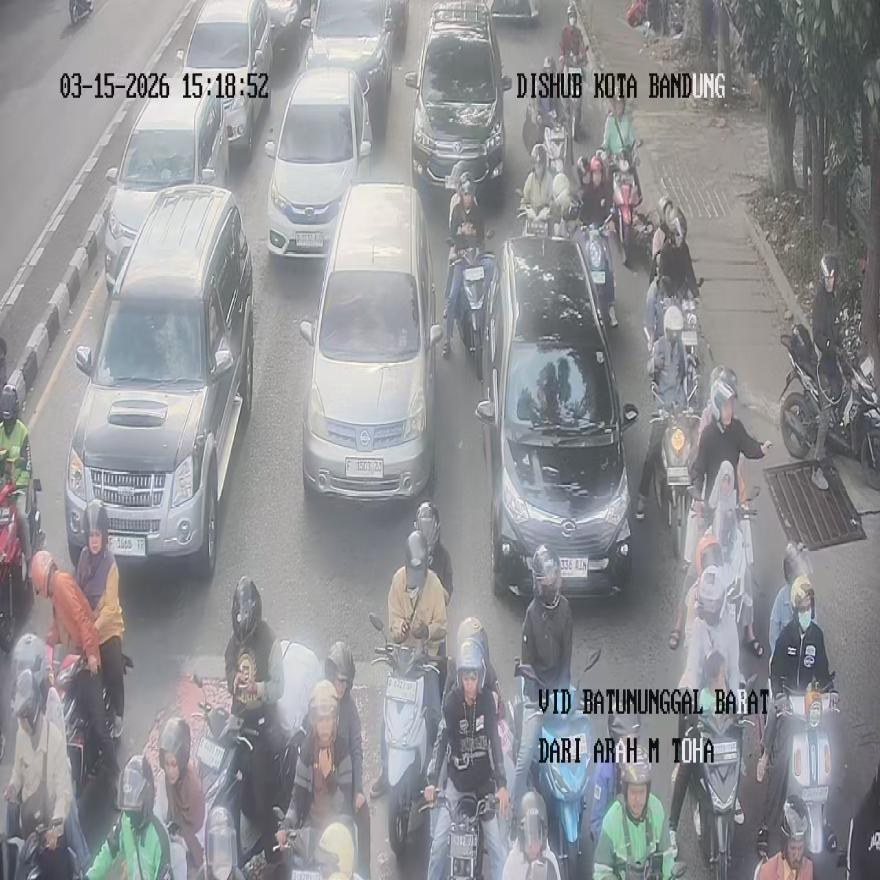Motor: (66, 183, 253, 574), (475, 237, 638, 595), (299, 183, 440, 501), (104, 72, 227, 290), (405, 0, 512, 192), (264, 65, 372, 255), (178, 0, 272, 161), (301, 0, 398, 139)
Truk: (193, 639, 321, 880), (510, 649, 602, 879), (370, 616, 446, 854), (779, 324, 880, 489), (589, 711, 677, 880), (768, 674, 839, 854), (54, 649, 128, 813), (193, 704, 260, 879), (688, 485, 756, 652), (646, 384, 699, 561), (690, 715, 746, 879), (0, 474, 41, 653), (448, 230, 496, 379), (272, 805, 367, 879), (3, 792, 82, 879), (423, 788, 496, 880), (502, 791, 562, 880), (576, 223, 615, 326), (522, 95, 568, 176), (610, 148, 641, 266), (560, 55, 588, 142), (69, 0, 93, 24)
